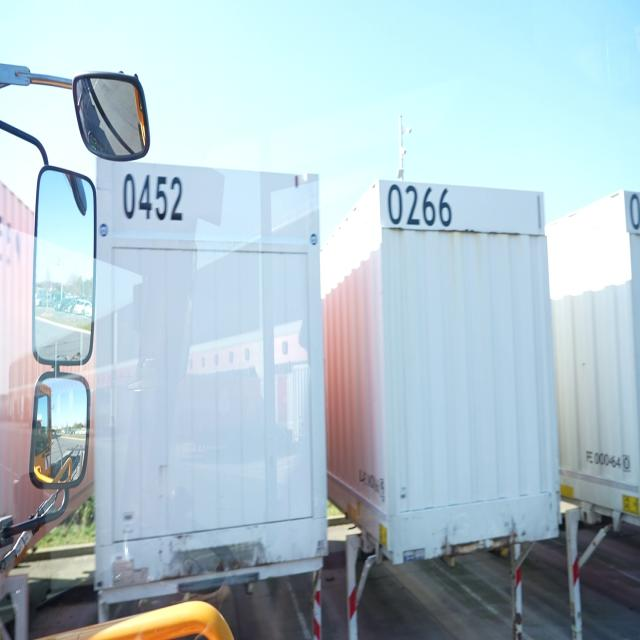Code: (388, 177, 453, 235), (121, 166, 182, 222)
